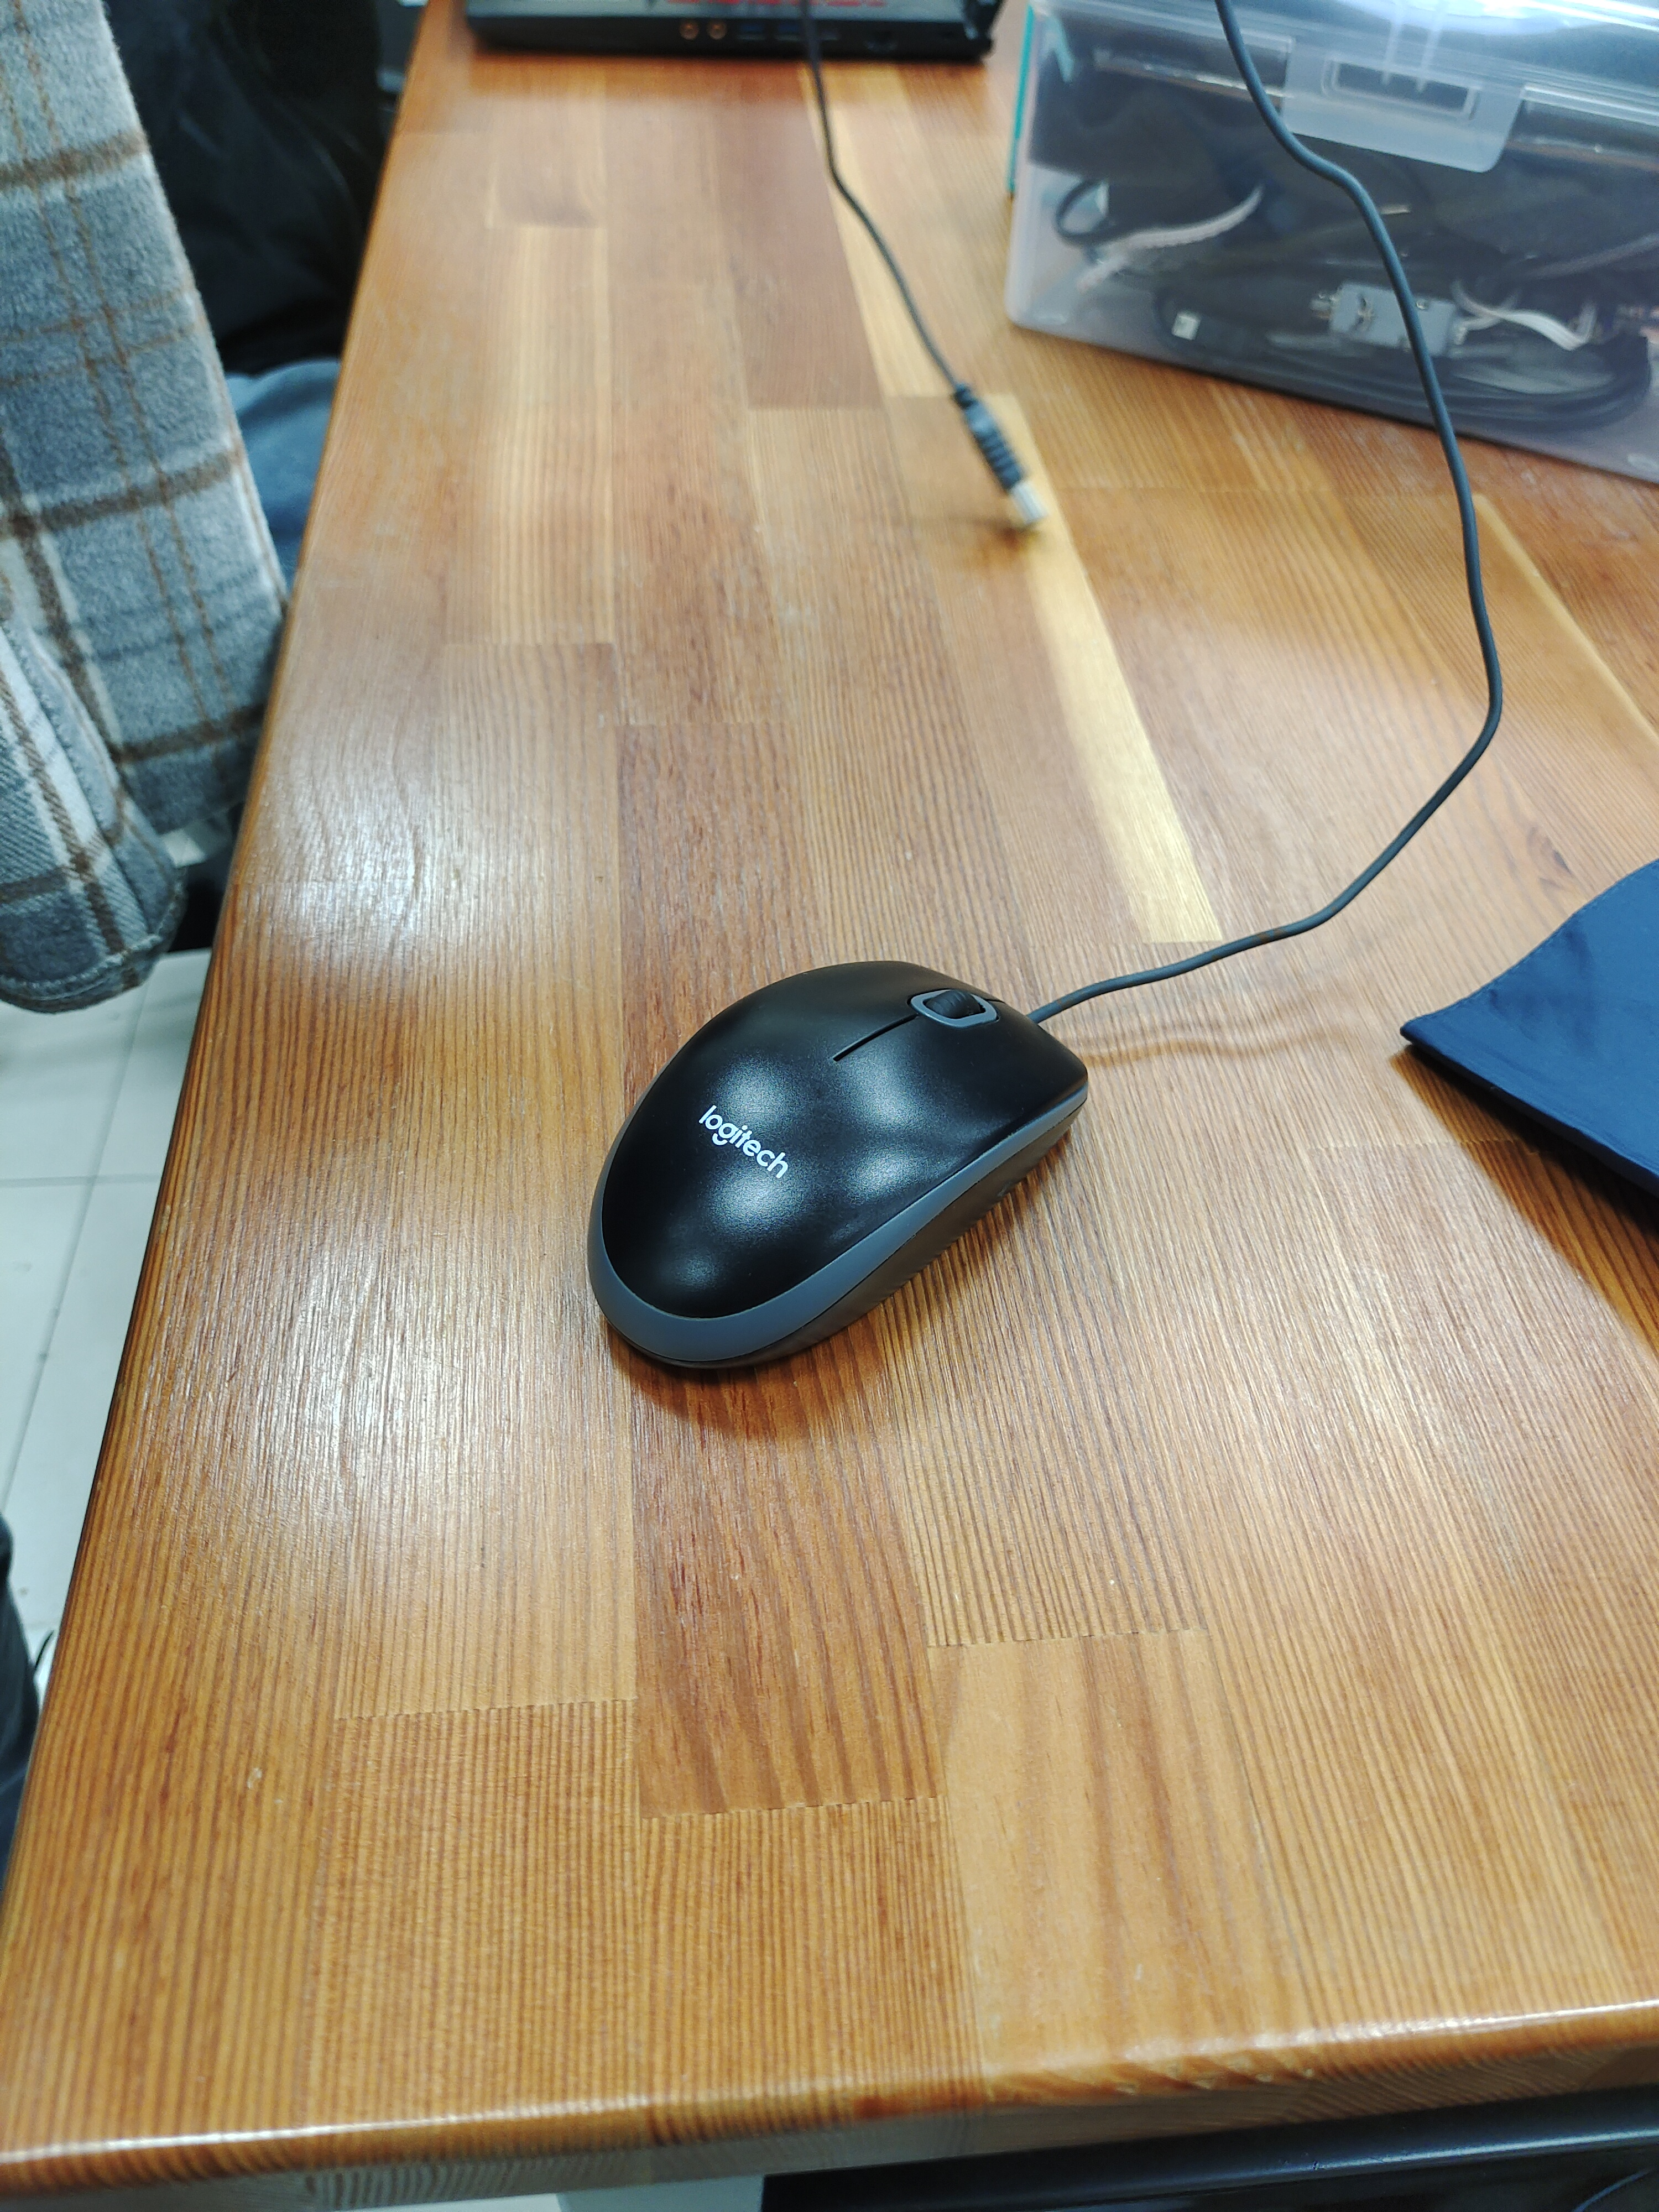mouse: (566, 937, 1121, 1400)
